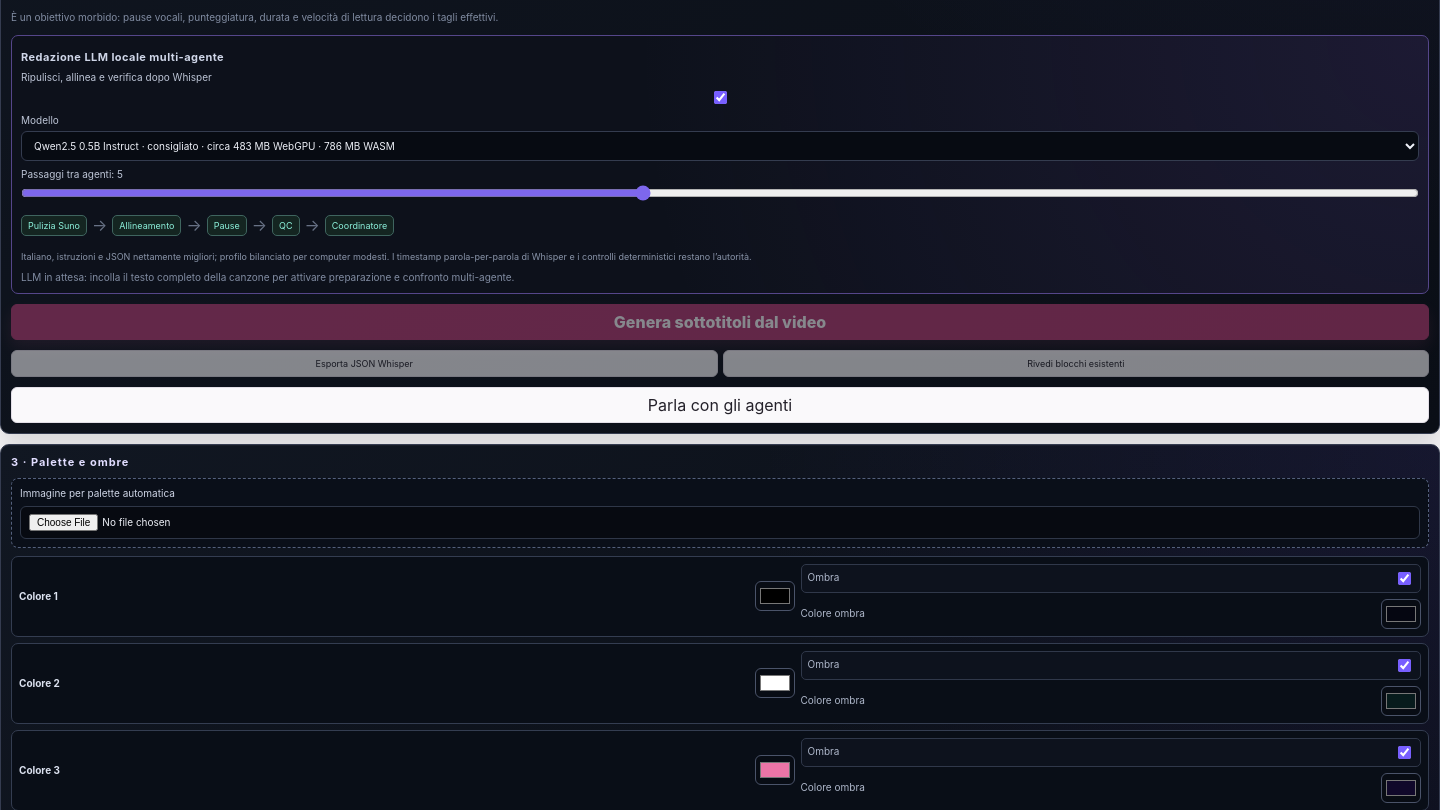
ProSubtitles UI › riapre la chat e consente di scegliere a quale agente scrivere
(page scrolled)
Click the button "Parla con gli agenti" at (720, 405), box [11, 387, 1429, 423]
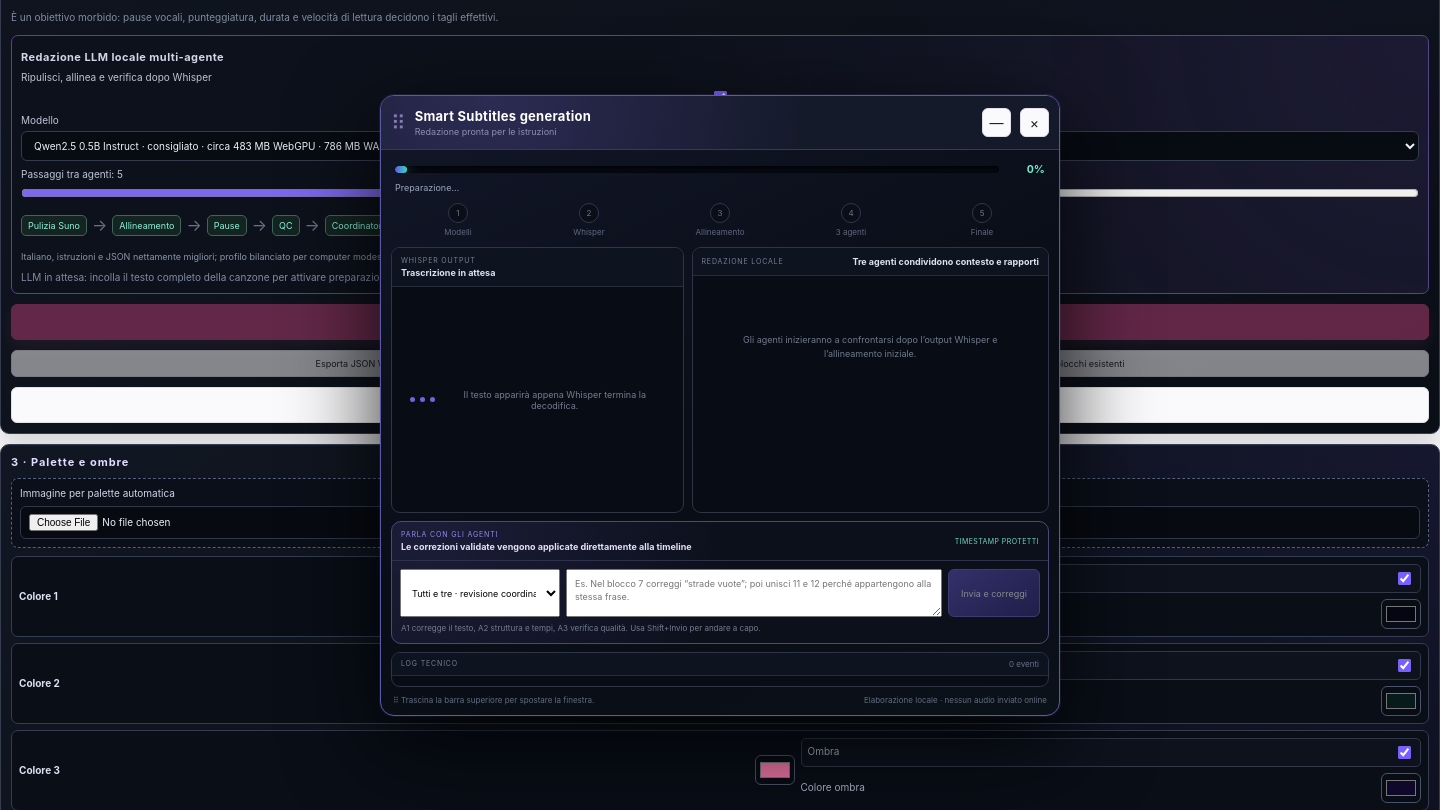
Expected: the dialog "Smart Subtitles generation" is shown, [380, 95, 1060, 716]
Expected: the text box named "Istruzione per gli agenti" is enabled, [566, 569, 942, 617]
